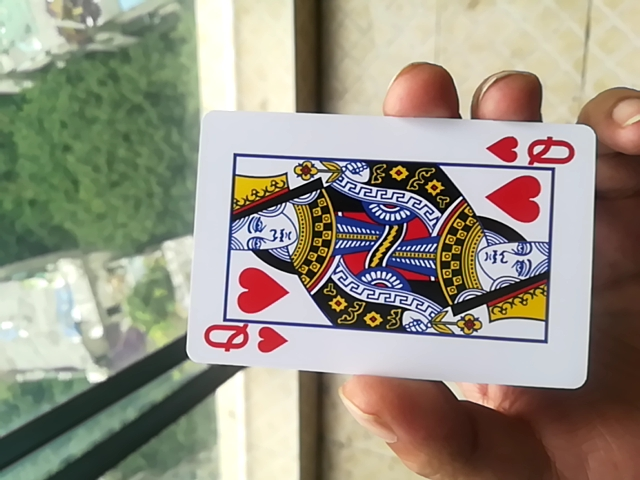hx q: (183, 107, 606, 396)
